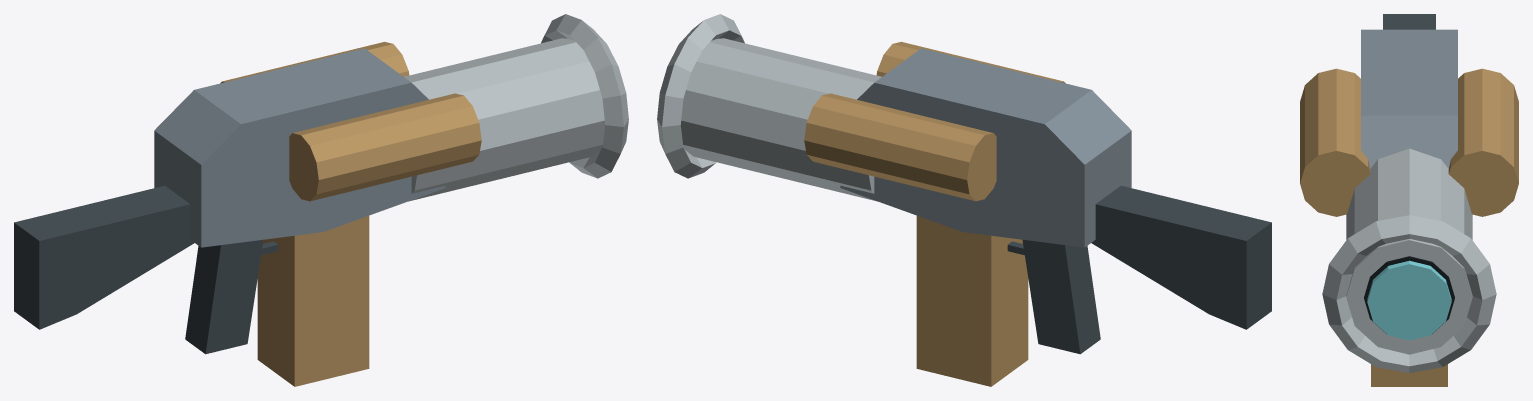
File: w13-ion-psalm.glb
3 views of the same model, side by side, from view 1: azimuth 30°, elevation 25°; view 2: azimuth 150°, elevation 25°; view 3: azimuth 270°, elevation 25° (orthographic). The views are drawn at different scales.
Visible parts, largest first — view 1: w13-ion-psalm__receiver, w13-ion-psalm__barrel, w13-ion-psalm__stock, w13-ion-psalm__power_cell, w13-ion-psalm__side_capacitor_-0.09, w13-ion-psalm__grip, w13-ion-psalm__field_collar, w13-ion-psalm__side_capacitor_0.09; view 2: w13-ion-psalm__receiver, w13-ion-psalm__barrel, w13-ion-psalm__stock, w13-ion-psalm__power_cell, w13-ion-psalm__side_capacitor_0.09, w13-ion-psalm__grip, w13-ion-psalm__field_collar, w13-ion-psalm__side_capacitor_-0.09; view 3: w13-ion-psalm__barrel, w13-ion-psalm__receiver, w13-ion-psalm__field_collar, w13-ion-psalm__side_capacitor_-0.09, w13-ion-psalm__side_capacitor_0.09, w13-ion-psalm__plasma_aperture, w13-ion-psalm__power_cell, w13-ion-psalm__stock, w13-ion-psalm__barrel_bore.
Boxes of the visible parts, x1,y1,x2,y2 form: w13-ion-psalm__receiver: (154,48,445,247); w13-ion-psalm__barrel: (404,38,605,201); w13-ion-psalm__stock: (14,185,194,329); w13-ion-psalm__power_cell: (257,215,369,386); w13-ion-psalm__side_capacitor_-0.09: (289,93,481,201); w13-ion-psalm__grip: (185,239,263,354); w13-ion-psalm__field_collar: (541,14,628,178); w13-ion-psalm__side_capacitor_0.09: (220,41,409,83); w13-ion-psalm__receiver: (840,48,1131,247); w13-ion-psalm__barrel: (680,38,881,201); w13-ion-psalm__stock: (1091,185,1271,329); w13-ion-psalm__power_cell: (916,215,1028,386); w13-ion-psalm__side_capacitor_0.09: (804,93,996,201); w13-ion-psalm__grip: (1022,239,1100,354); w13-ion-psalm__field_collar: (657,14,744,178); w13-ion-psalm__side_capacitor_-0.09: (876,41,1065,83); w13-ion-psalm__barrel: (1346,148,1472,354); w13-ion-psalm__receiver: (1361,29,1457,168); w13-ion-psalm__field_collar: (1322,215,1496,372); w13-ion-psalm__side_capacitor_-0.09: (1300,68,1370,216); w13-ion-psalm__side_capacitor_0.09: (1448,68,1518,216); w13-ion-psalm__plasma_aperture: (1367,260,1451,340); w13-ion-psalm__power_cell: (1371,364,1447,386); w13-ion-psalm__stock: (1383,14,1435,29); w13-ion-psalm__barrel_bore: (1364,256,1454,333).
Bounding box in the file's own units: 0.8416 × 0.395 × 0.27.
